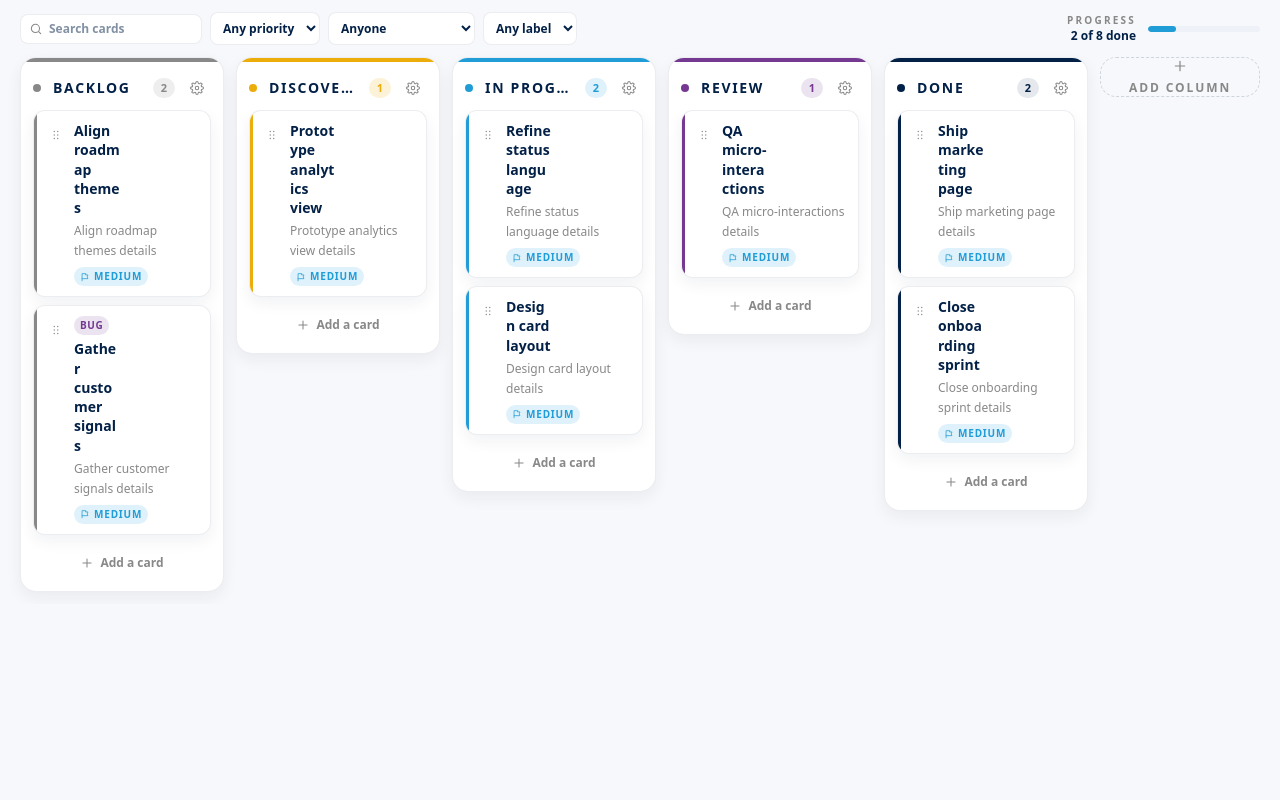
Test: KanbanBoard › filters cards by label
The image size is (1280, 800).
Select "Bug" in the dropdown named "Filter by label": (530, 28) [483,12,577,45]
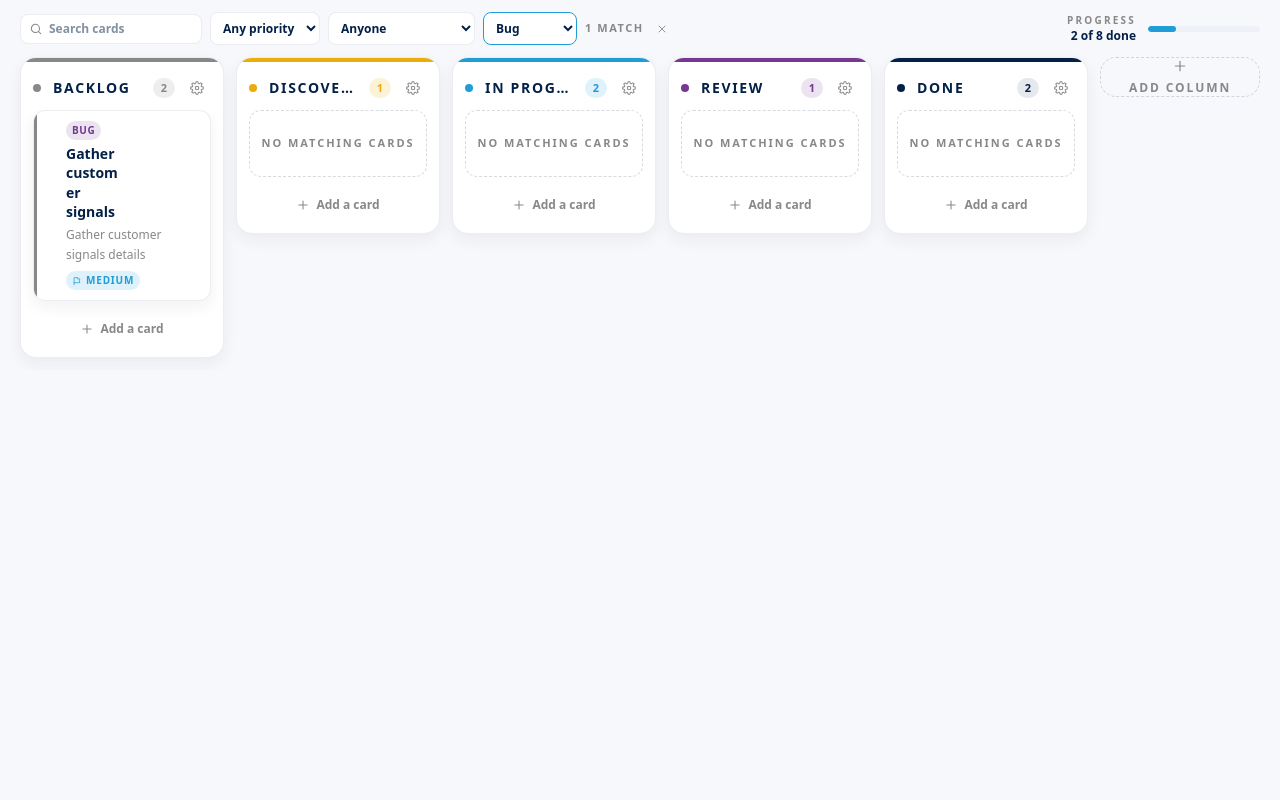
Expected: the element with test id "card-card-2" is shown, [33,110,211,301]
Expected: the element with test id "card-card-1" is gone
